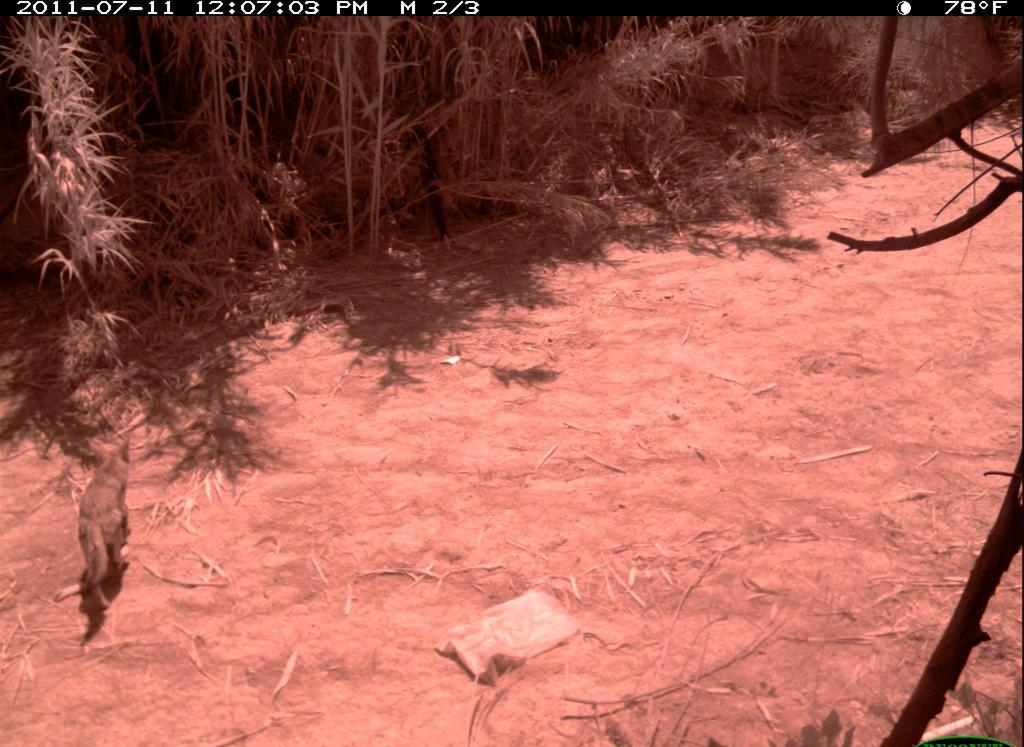coyote: (50, 432, 137, 629)
